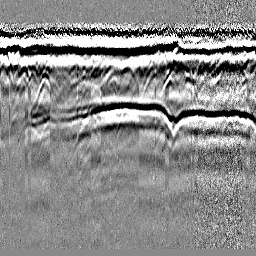cavity: (118, 60, 139, 91)
